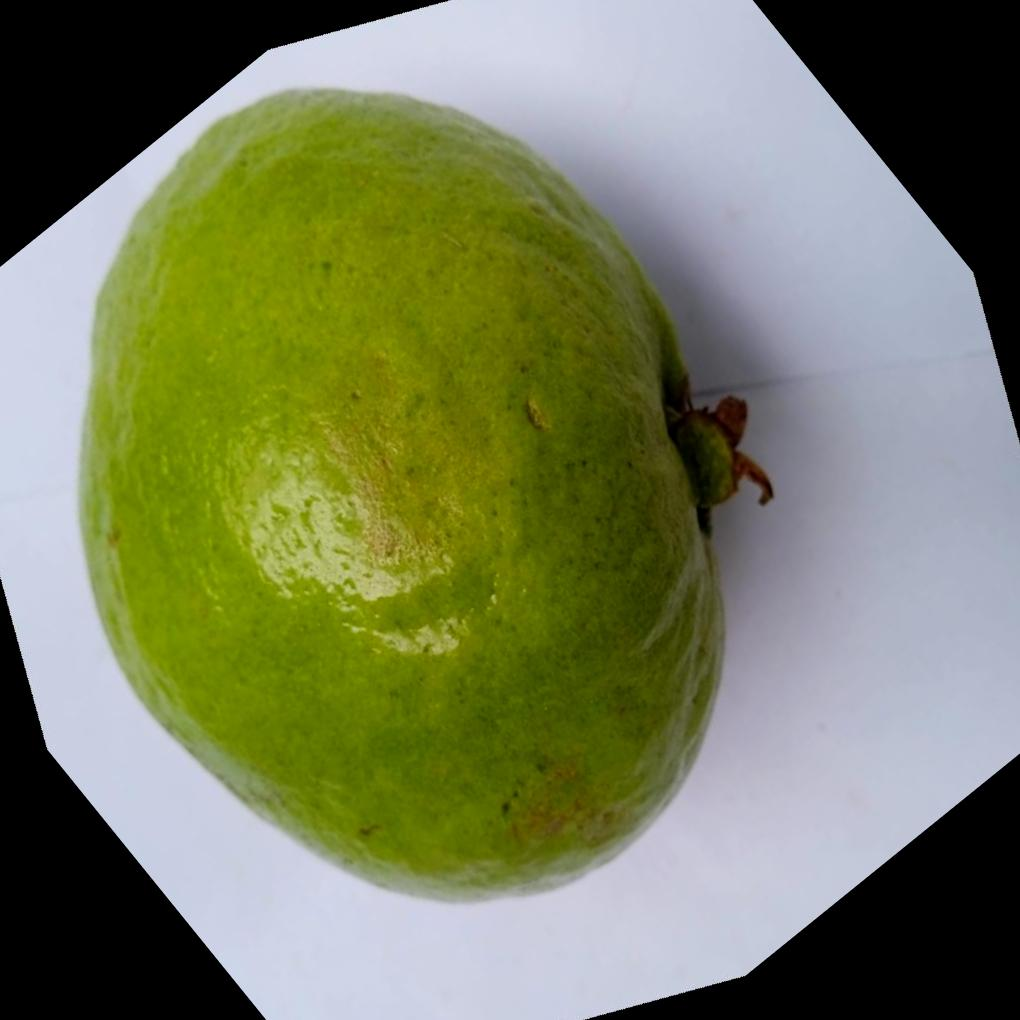FreshGuava: (77, 86, 771, 908)
